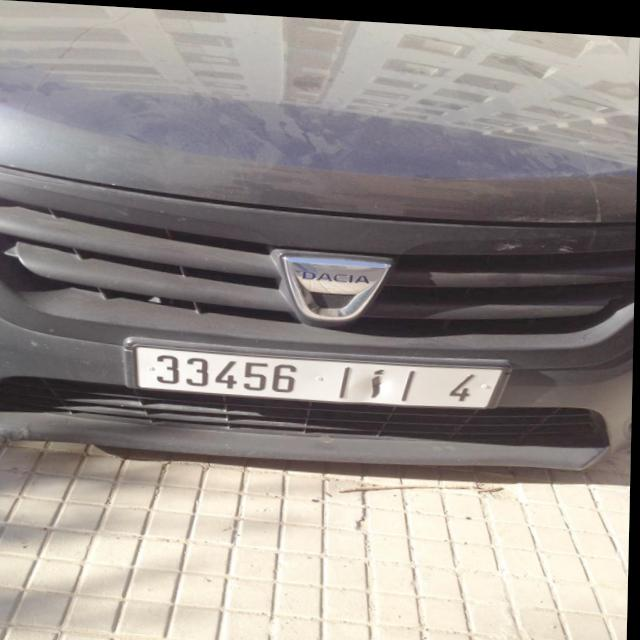License-Plate: (136, 344, 507, 402)
